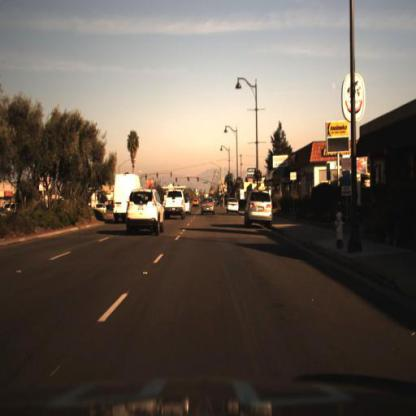car: (122, 182, 164, 242), (114, 173, 144, 225), (244, 188, 276, 235), (163, 190, 187, 220), (200, 196, 217, 215), (183, 196, 194, 222)
truck: (113, 173, 145, 228)
